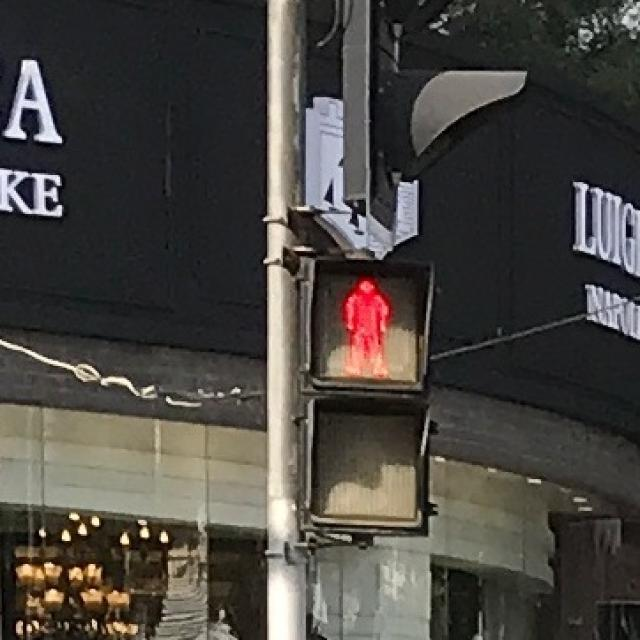red-crossing: (318, 262, 410, 387)
